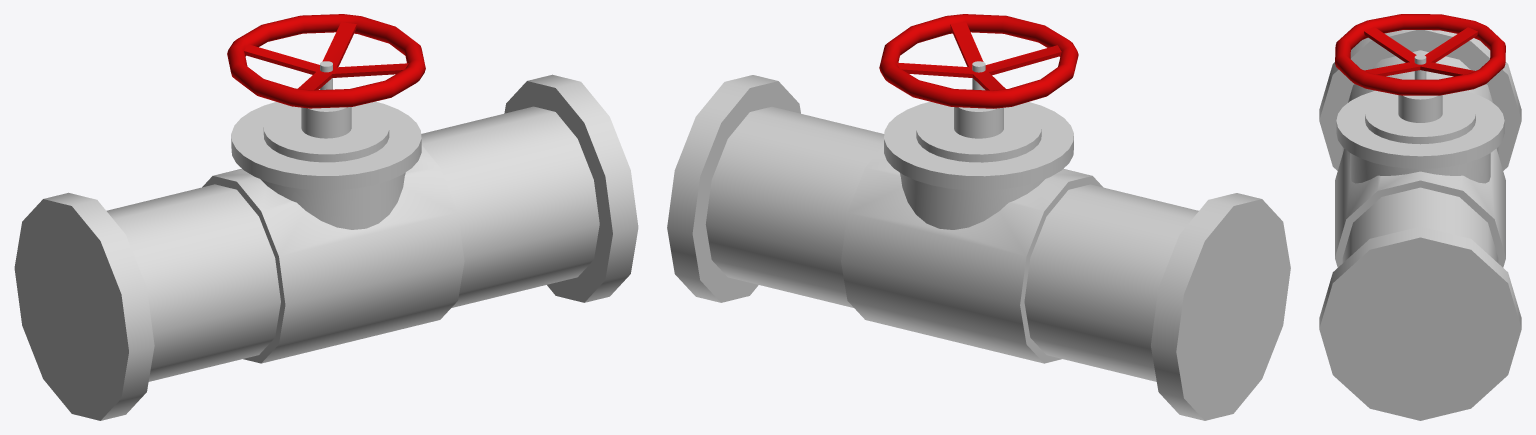
Rendered from pipes-straight-valve.fbx.
The picture shows the model from 3 angles, left to right: view 1: azimuth 30°, elevation 25°; view 2: azimuth 150°, elevation 25°; view 3: azimuth 270°, elevation 25°; orthographic projection. The views are drawn at different scales.
Visible parts, largest first — view 1: valve pipe; view 2: valve pipe; view 3: valve pipe.
Part boxes in pixels (x1=…): valve pipe: x1=14, y1=14, x2=638, y2=420; valve pipe: x1=667, y1=14, x2=1290, y2=420; valve pipe: x1=1319, y1=14, x2=1521, y2=420.
Size of the model in its own units: 72 by 40.36 by 28.08.
